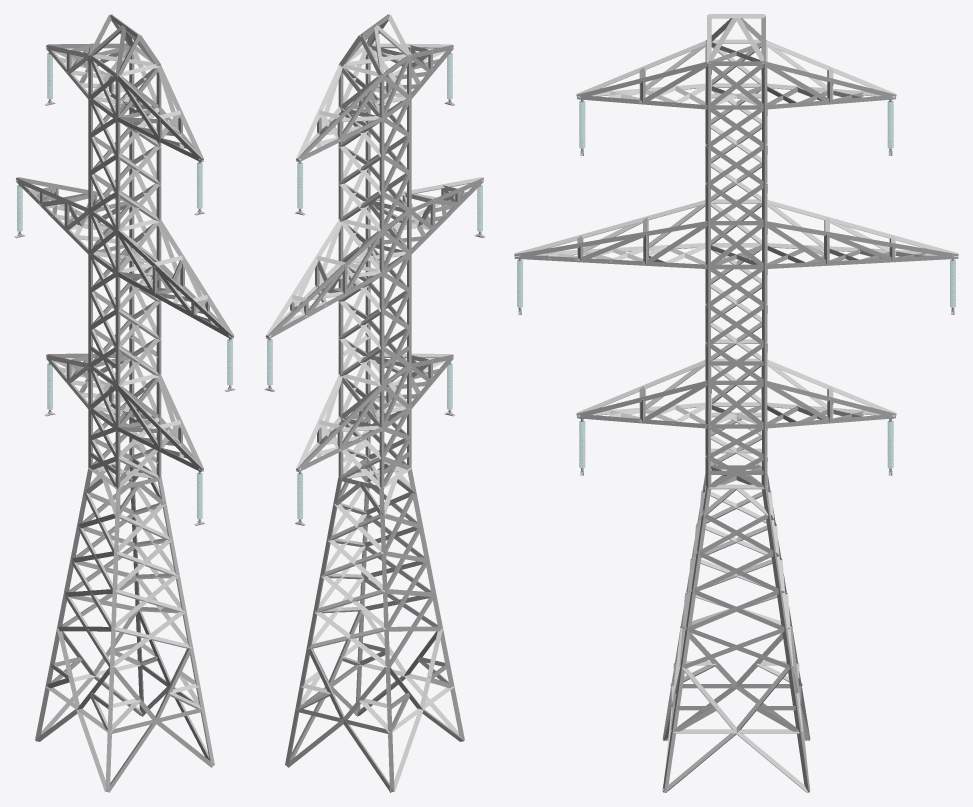
3 renders of one model, left to right at view 1: azimuth 30°, elevation 25°; view 2: azimuth 150°, elevation 25°; view 3: azimuth 270°, elevation 25°, orthographic. The views are drawn at different scales.
Visible parts, largest first — view 1: SteelPole_Level4_Dwg; view 2: SteelPole_Level4_Dwg; view 3: SteelPole_Level4_Dwg.
Part boxes in pixels (<box>): SteelPole_Level4_Dwg: <box>15,14,234,792</box>; SteelPole_Level4_Dwg: <box>265,14,484,792</box>; SteelPole_Level4_Dwg: <box>514,14,958,792</box>.
Size of the model in its own units: 22 by 140 by 75.
